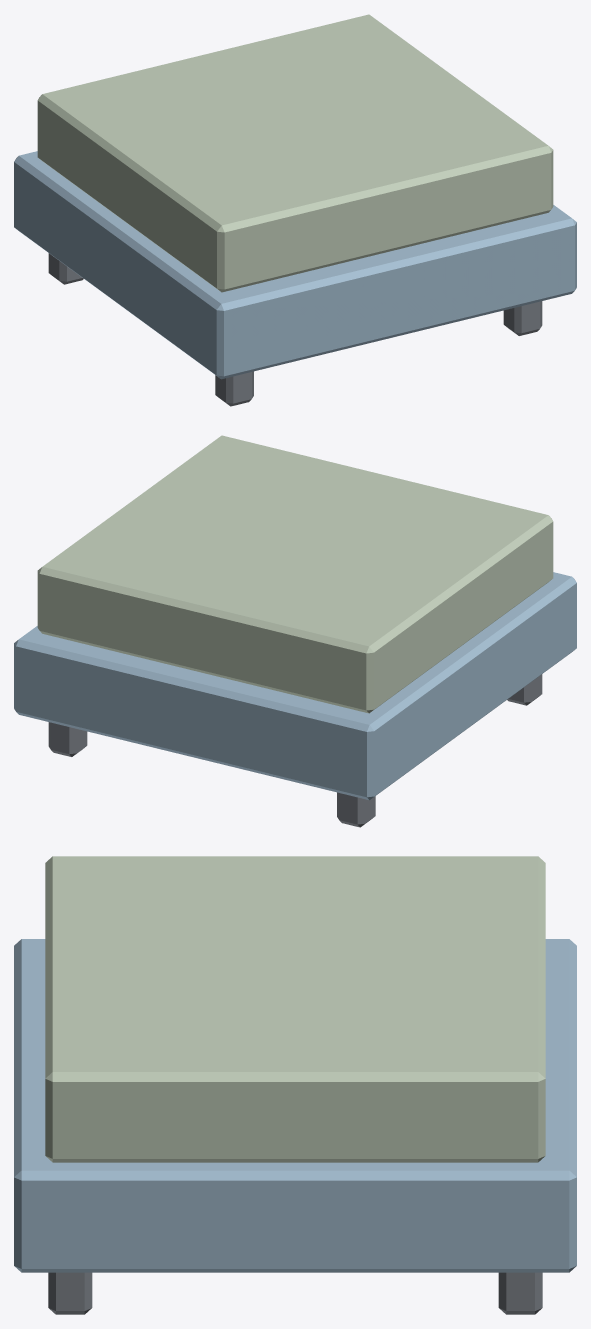
File: Storage_1.glb
3 renders of one model, top to bottom at view 1: azimuth 30°, elevation 25°; view 2: azimuth 150°, elevation 25°; view 3: azimuth 270°, elevation 25°, orthographic. The views are drawn at different scales.
Visible parts, largest first — view 1: Sofa_Storage_1_Lid, Sofa_Storage_1_Body; view 2: Sofa_Storage_1_Lid, Sofa_Storage_1_Body; view 3: Sofa_Storage_1_Lid, Sofa_Storage_1_Body.
Part boxes in pixels (x1,y1,x2,y2): Sofa_Storage_1_Lid: [37, 14, 553, 292]; Sofa_Storage_1_Body: [14, 151, 576, 406]; Sofa_Storage_1_Lid: [37, 435, 553, 713]; Sofa_Storage_1_Body: [14, 572, 576, 827]; Sofa_Storage_1_Lid: [45, 856, 545, 1162]; Sofa_Storage_1_Body: [14, 939, 576, 1314].
Bounding box in the file's own units: 0.9 × 0.44 × 0.9.
